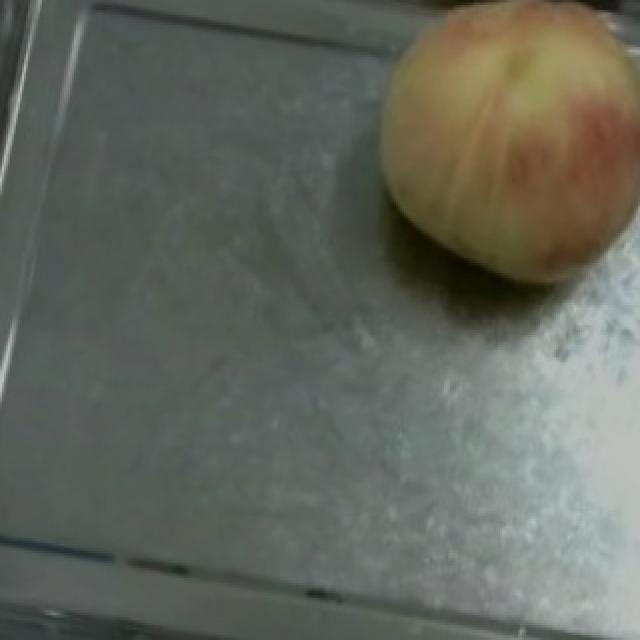Fruit: (340, 0, 640, 313)
